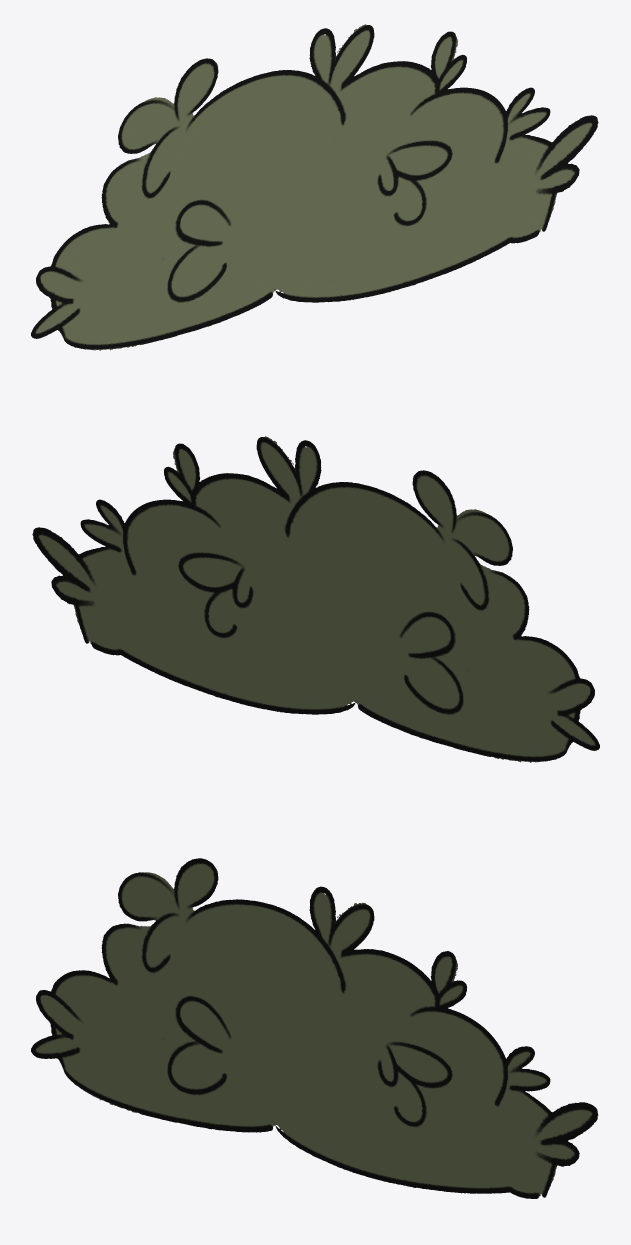
Rendered from bush3Card.fbx.
3 views of the same model, one above another, from view 1: azimuth 30°, elevation 25°; view 2: azimuth 150°, elevation 25°; view 3: azimuth 330°, elevation 25° (orthographic).
Visible parts, largest first — view 1: polySurface32; view 2: polySurface32; view 3: polySurface32.
Boxes of the visible parts, box(x1,y1,x2,y2) form: polySurface32: box(31, 24, 598, 350); polySurface32: box(32, 436, 599, 762); polySurface32: box(31, 858, 598, 1198).
Bounding box in the file's own units: 43 × 21.86 × 1.33e-15.
1 material, 1 textured.
